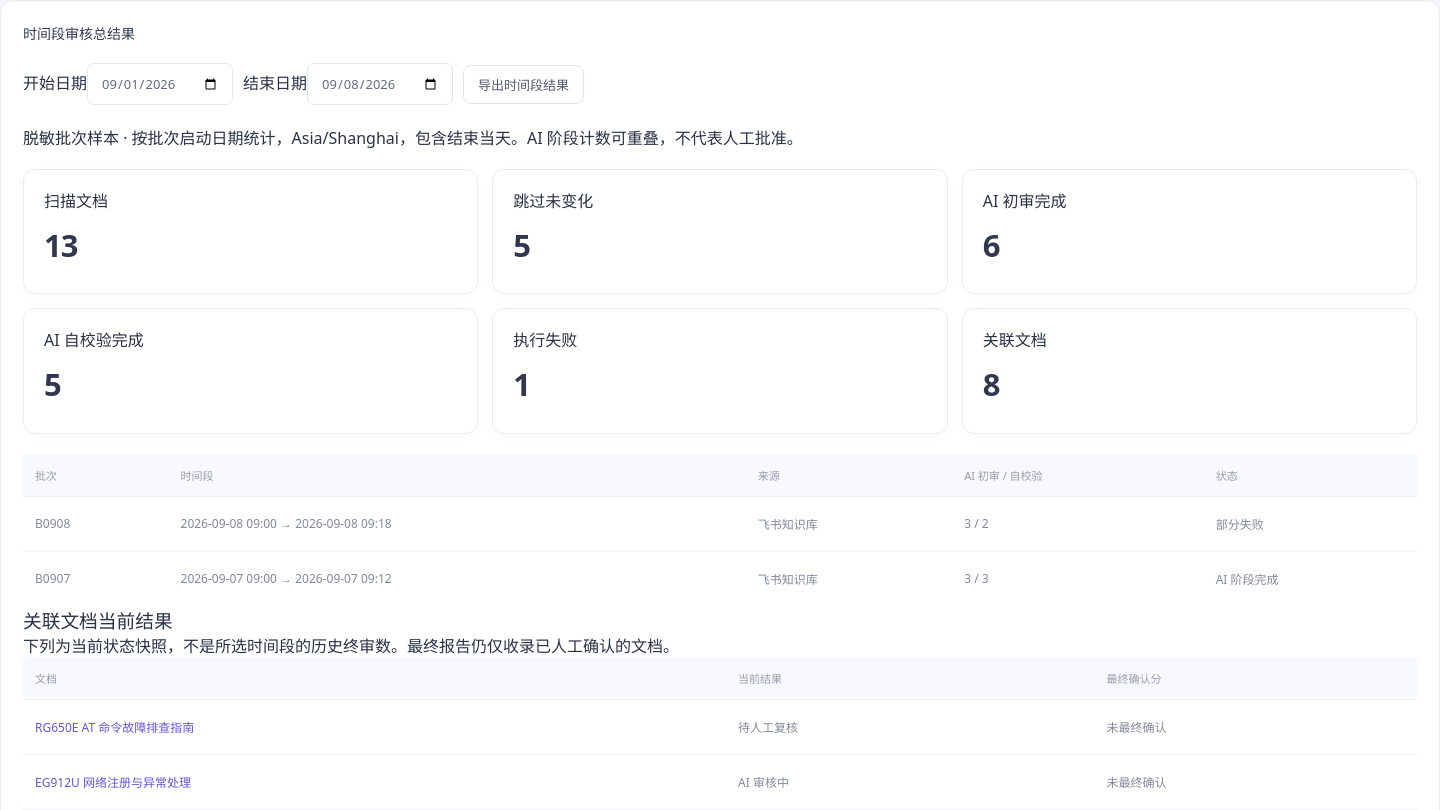
Test: operations local-only gates › filters inclusive batch dates and handles reversed ranges
Type "2026-09-08" into the date field labelled "开始日期" at (160, 84), box [87,63,233,105]
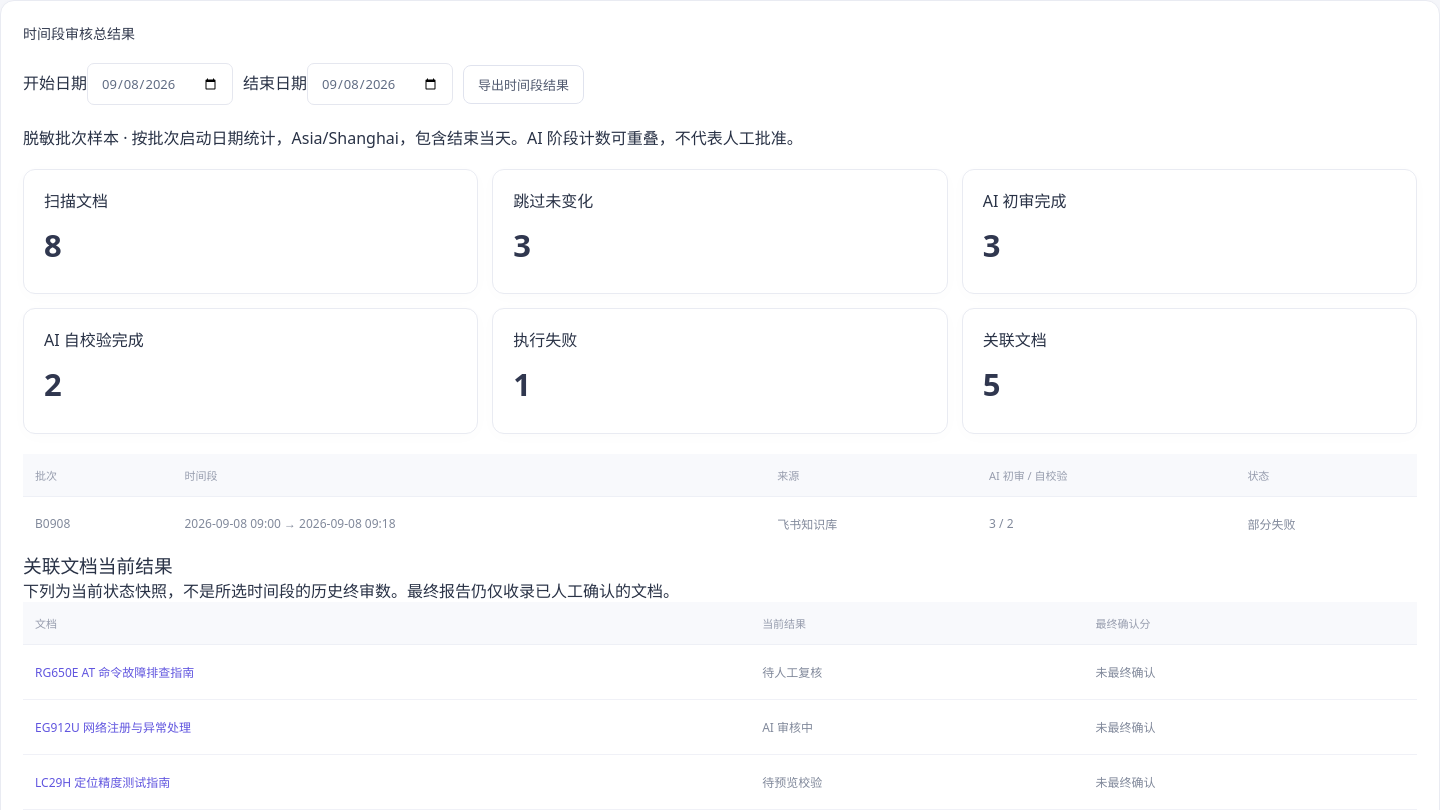
Check: the text "B0908" is shown, box [23,496,172,551]
Check: the text "B0907" is gone
Type "2026-09-09" into the date field labelled "开始日期" at (160, 84), box [87,63,233,105]
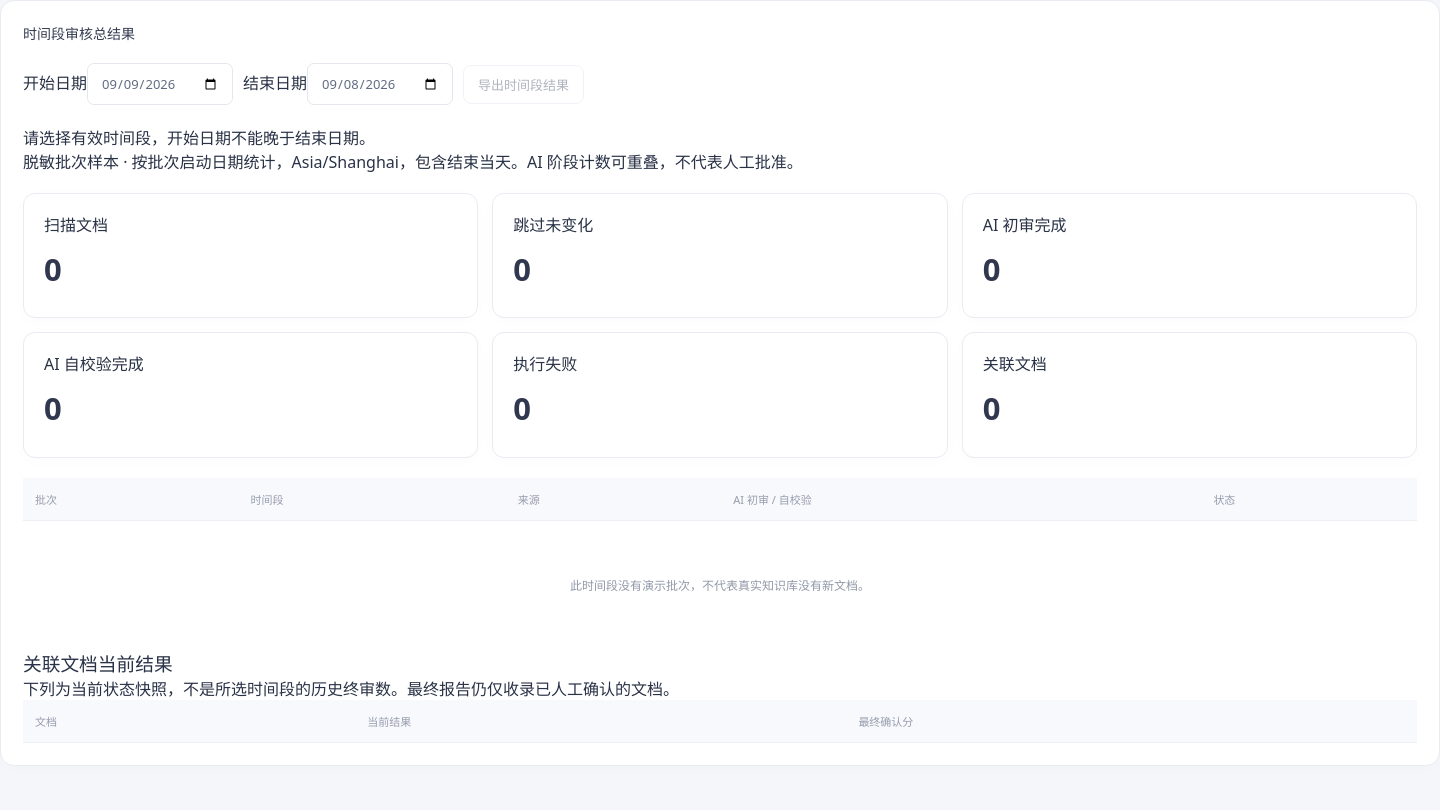
Check: the message "请选择有效时间段，开始日期不能晚于结束日期。" is shown, box [23,127,375,149]
Check: the text "B0908" is gone
